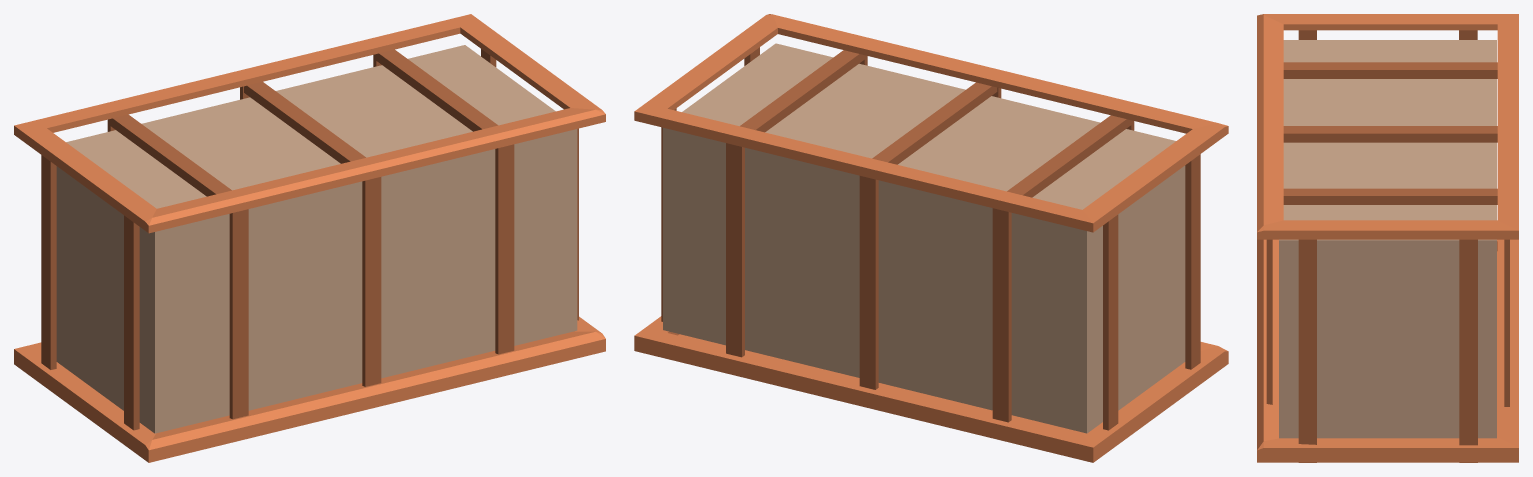
The model's file is Box_2_Stone.fbx.
The picture shows the model from 3 angles, left to right: view 1: azimuth 30°, elevation 25°; view 2: azimuth 150°, elevation 25°; view 3: azimuth 270°, elevation 25°; orthographic projection. The views are drawn at different scales.
Parts seen in each view (by area): view 1: Cube.095, Cube.106, Cube.110, Cube.099, Cube.100, Cube.101, Cube.105, Cube.104, Cube.107, Cube.103, Cube.108; view 2: Cube.095, Cube.106, Cube.110, Cube.096, Cube.098, Cube.097, Cube.105, Cube.104, Cube.103, Cube.107, Cube.108; view 3: Cube.095, Cube.106, Cube.110, Cube.109, Cube.102, Cube.103, Cube.108, Cube.107, Cube.100, Cube.097.
Boxes of the visible parts, bbox=[...] form: Cube.095: bbox=[56, 45, 577, 433]; Cube.106: bbox=[14, 14, 605, 233]; Cube.110: bbox=[14, 316, 605, 462]; Cube.099: bbox=[229, 209, 248, 419]; Cube.100: bbox=[495, 144, 514, 354]; Cube.101: bbox=[362, 177, 381, 386]; Cube.105: bbox=[41, 155, 56, 369]; Cube.104: bbox=[124, 215, 139, 430]; Cube.107: bbox=[375, 49, 497, 131]; Cube.103: bbox=[109, 114, 231, 196]; Cube.108: bbox=[244, 82, 365, 163]; Cube.095: bbox=[663, 43, 1185, 433]; Cube.106: bbox=[634, 14, 1228, 232]; Cube.110: bbox=[634, 316, 1228, 462]; Cube.096: bbox=[992, 208, 1011, 422]; Cube.098: bbox=[859, 176, 878, 389]; Cube.097: bbox=[726, 143, 744, 357]; Cube.105: bbox=[1103, 214, 1118, 430]; Cube.104: bbox=[1185, 154, 1200, 369]; Cube.103: bbox=[1007, 115, 1133, 197]; Cube.107: bbox=[740, 50, 865, 132]; Cube.108: bbox=[872, 82, 997, 164]; Cube.095: bbox=[1279, 40, 1496, 438]; Cube.106: bbox=[1257, 14, 1518, 239]; Cube.110: bbox=[1257, 239, 1518, 462]; Cube.109: bbox=[1459, 239, 1477, 462]; Cube.102: bbox=[1298, 239, 1316, 462]; Cube.103: bbox=[1283, 62, 1497, 78]; Cube.108: bbox=[1283, 126, 1497, 142]; Cube.107: bbox=[1283, 188, 1497, 204]; Cube.100: bbox=[1266, 239, 1272, 404]; Cube.097: bbox=[1504, 239, 1509, 406].
Size of the model in its own units: 397 by 202 by 203.
